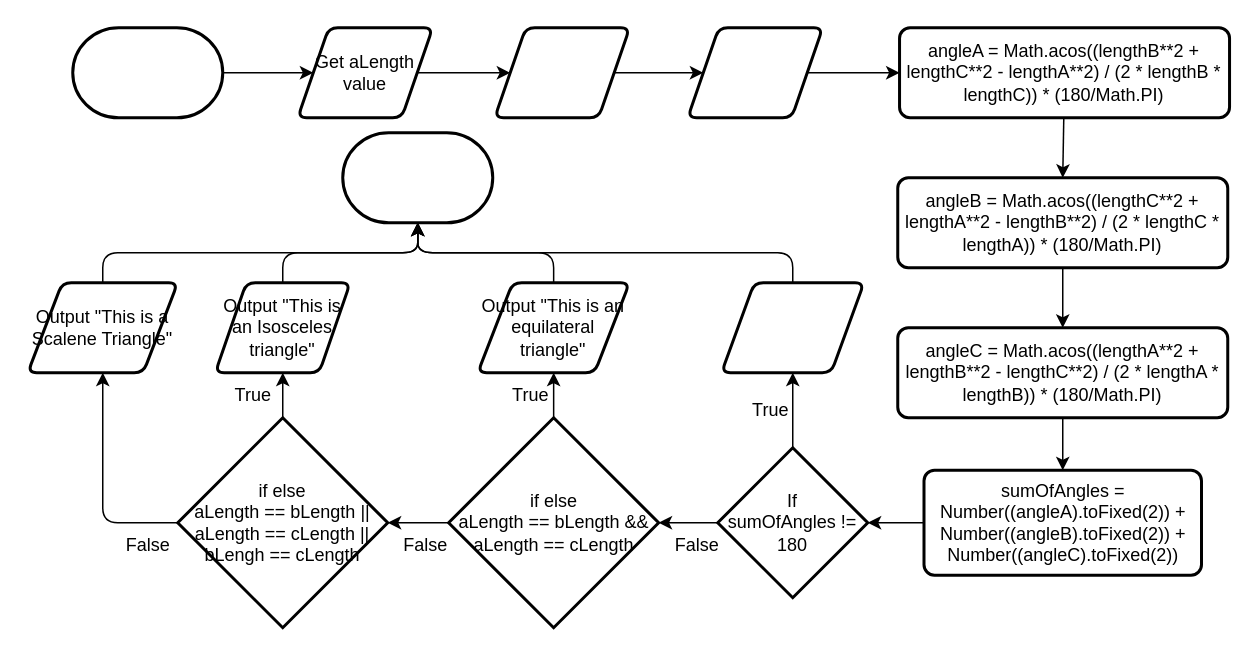
The diagram is 1257 pixels wide and 654 high, and some of its shapes have lost their labels. Here are the shapes that lost their labels. From the top down, the centre of each, then its label:
[147,72]: Start
[561,72]: Get bLength value
[755,72]: Get cLength value
[417,177]: Stop
[792,327]: Output "This isn't a triangle"
